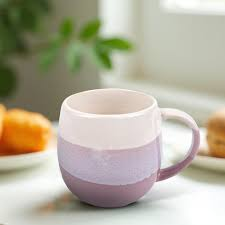mug: (39, 80, 204, 204)
